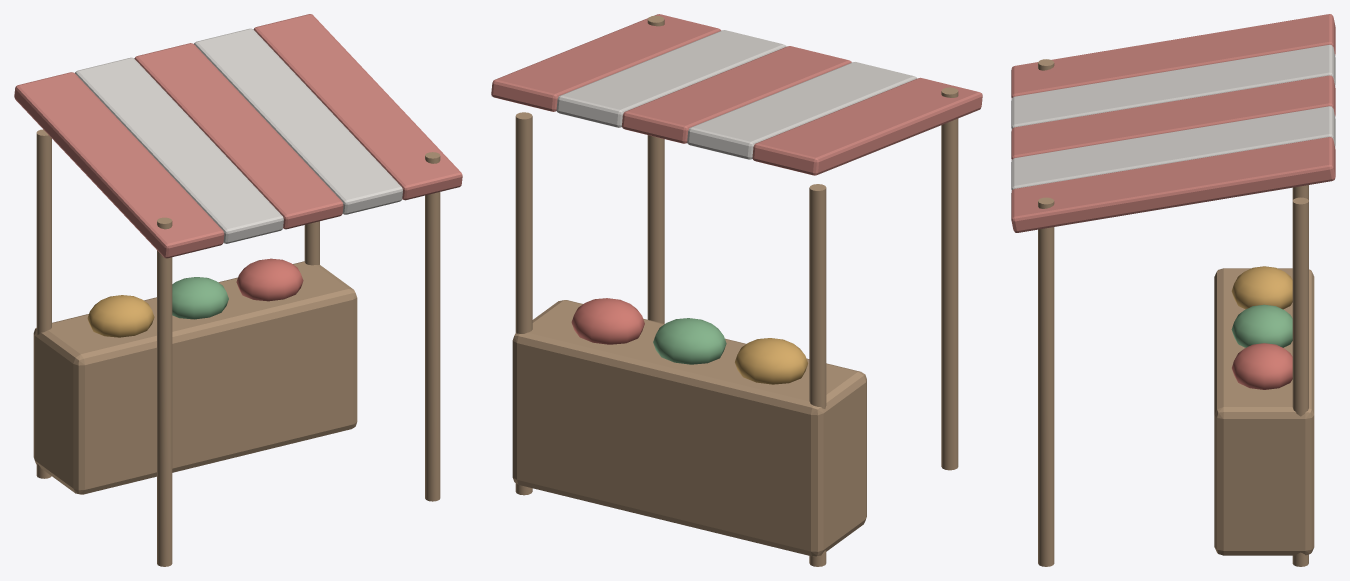
File: market_stall.glb
3 views of the same model, side by side, from view 1: azimuth 30°, elevation 25°; view 2: azimuth 150°, elevation 25°; view 3: azimuth 270°, elevation 25° (orthographic). The views are drawn at different scales.
Visible parts, largest first — view 1: market_stall_Palette; view 2: market_stall_Palette; view 3: market_stall_Palette.
Boxes of the visible parts, bbox=[...] form: market_stall_Palette: bbox=[14, 14, 462, 566]; market_stall_Palette: bbox=[491, 14, 982, 566]; market_stall_Palette: bbox=[1011, 14, 1335, 566].
Bounding box in the file's own units: 2 × 2.46 × 1.78.
